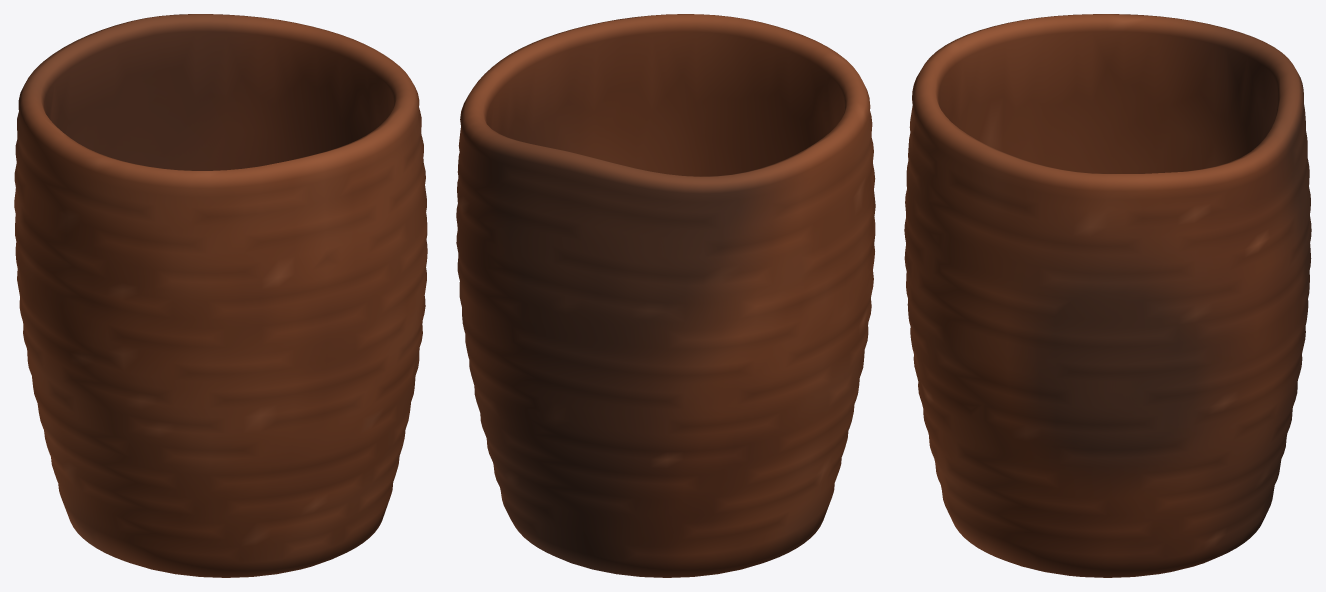
File: clay-cup.glb
3 views of the same model, side by side, from view 1: azimuth 30°, elevation 25°; view 2: azimuth 150°, elevation 25°; view 3: azimuth 270°, elevation 25° (orthographic).
Visible parts, largest first — view 1: clay-cup; view 2: clay-cup; view 3: clay-cup.
Boxes of the visible parts, left/top/right/bottom form: clay-cup: left=14, top=14, right=427, bottom=577; clay-cup: left=456, top=14, right=875, bottom=577; clay-cup: left=904, top=14, right=1311, bottom=577.
Size of the model in its own units: 0.0781 by 0.09 by 0.0769.
